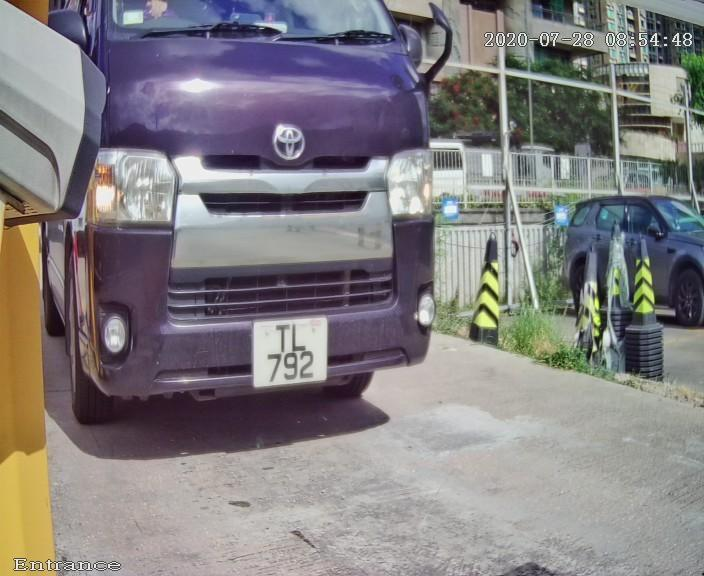privatecar: (16, 8, 503, 461)
